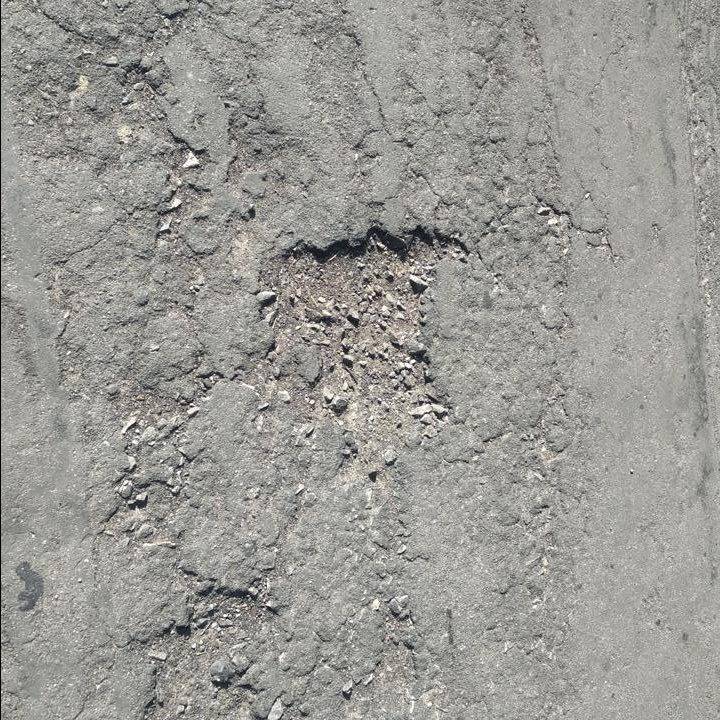pothole: (256, 212, 473, 458), (148, 578, 276, 669)
